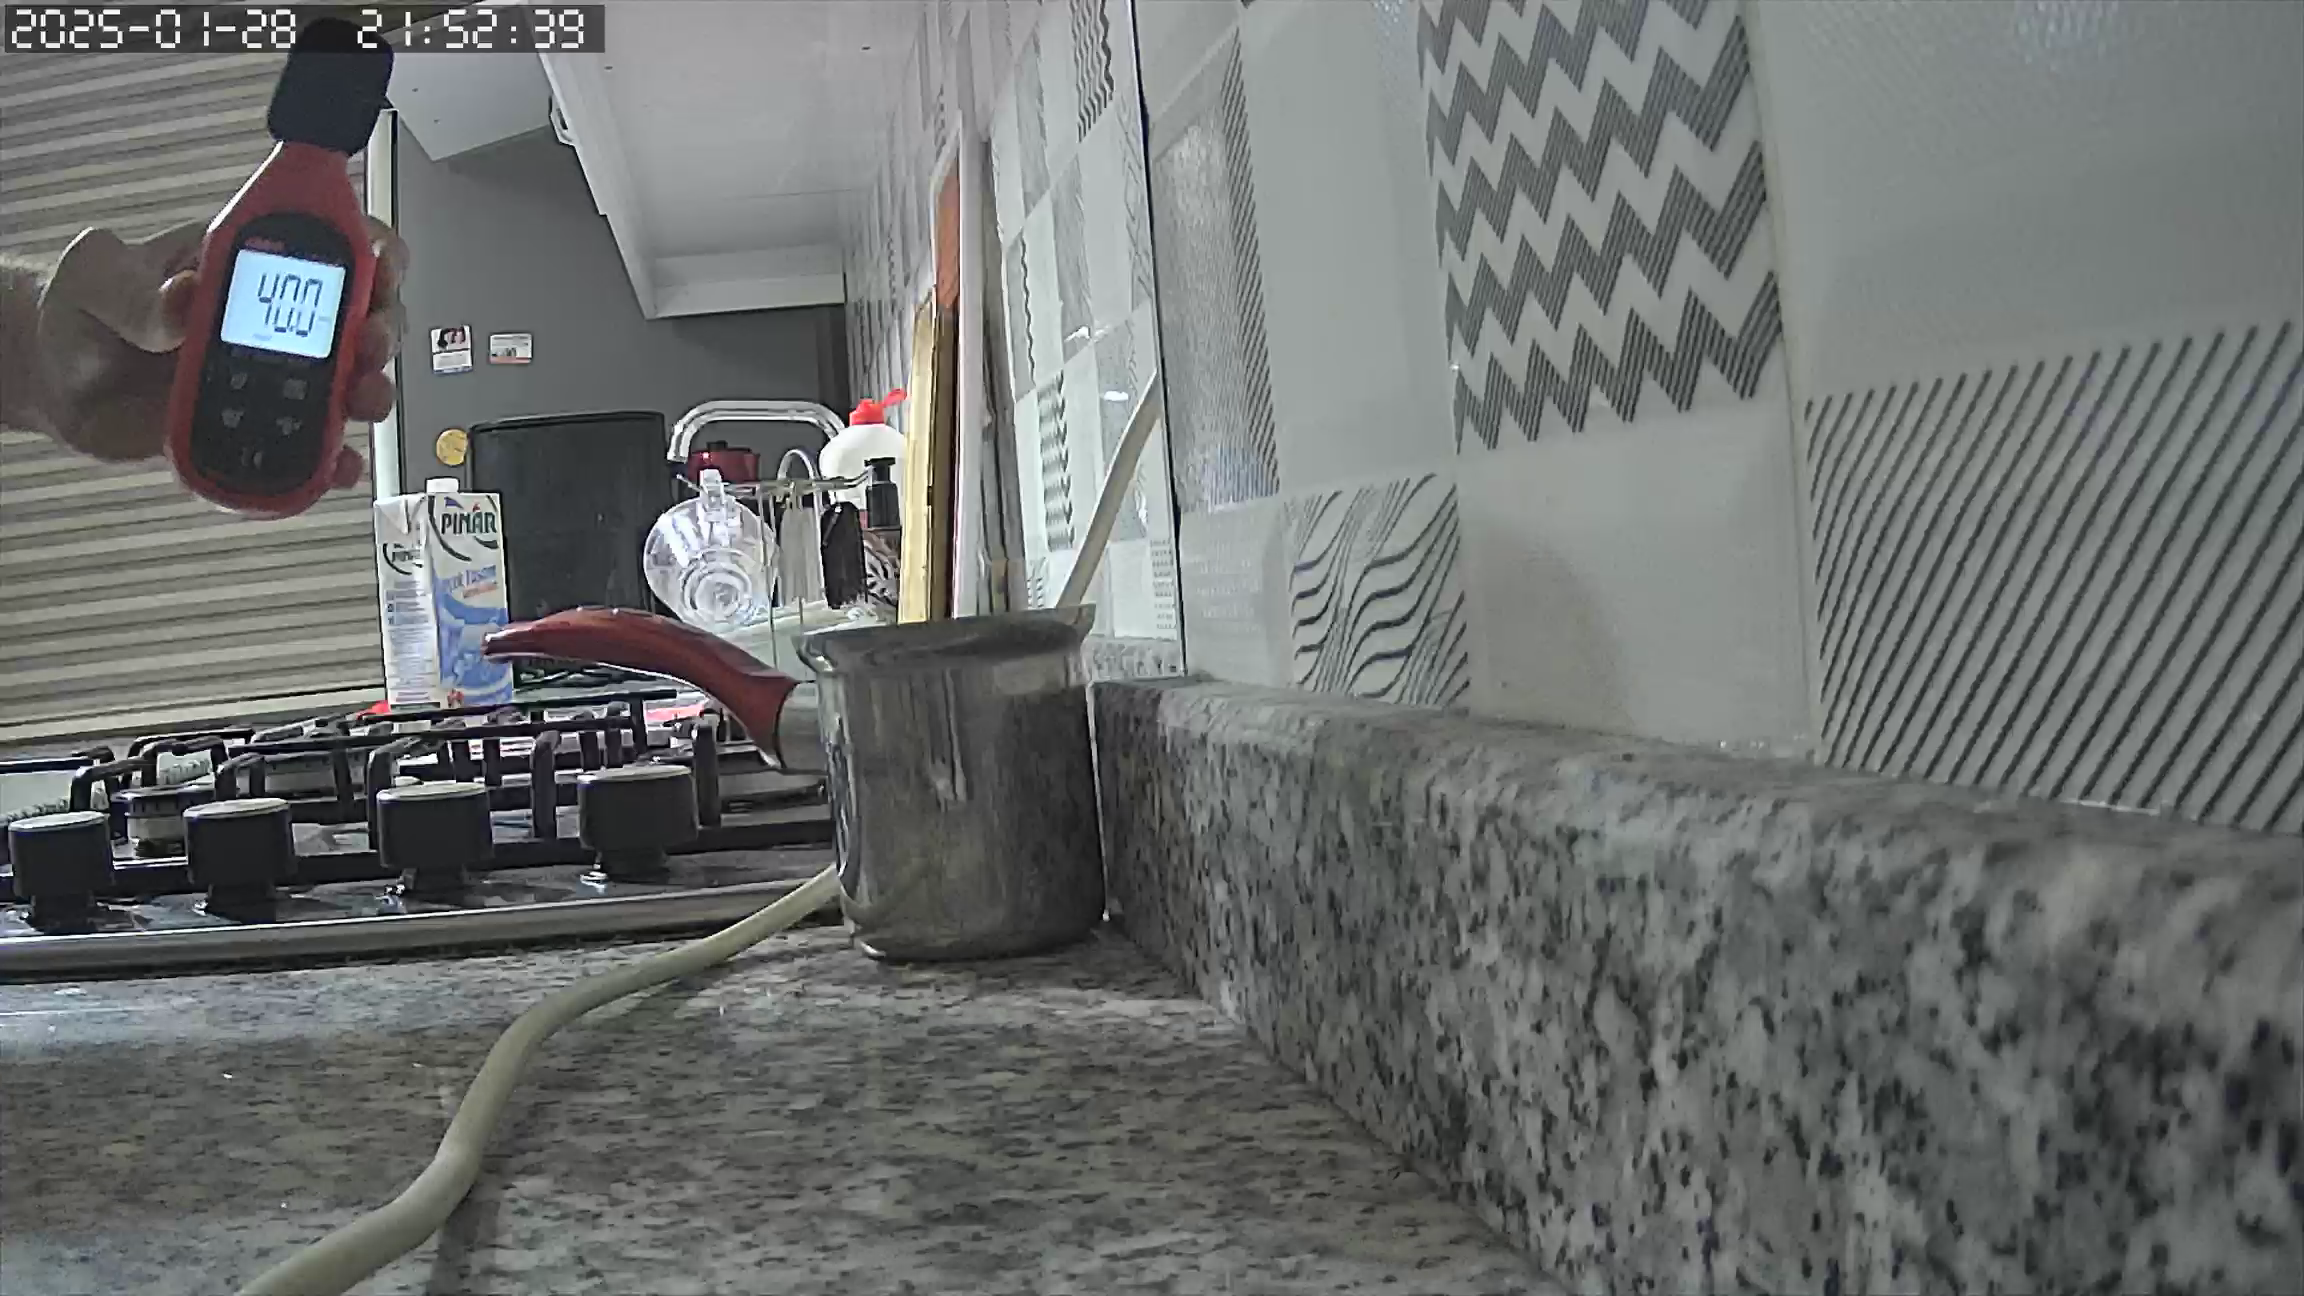screen: (218, 248, 347, 358)
